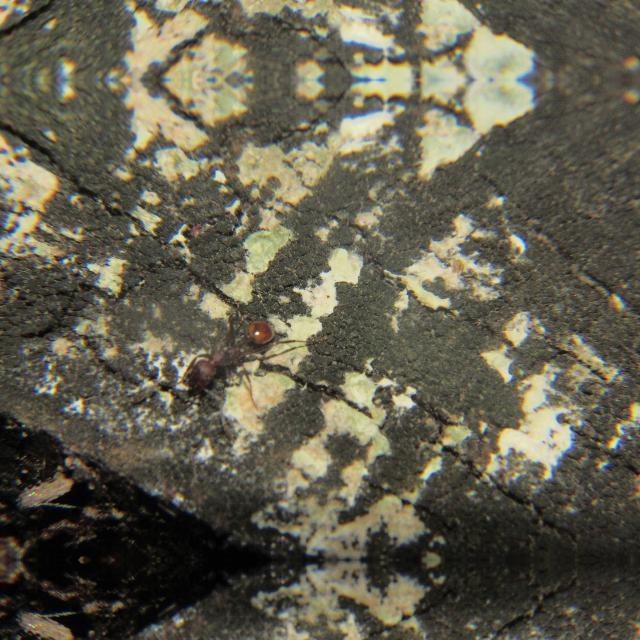Apheanogaster: (166, 308, 302, 404)
